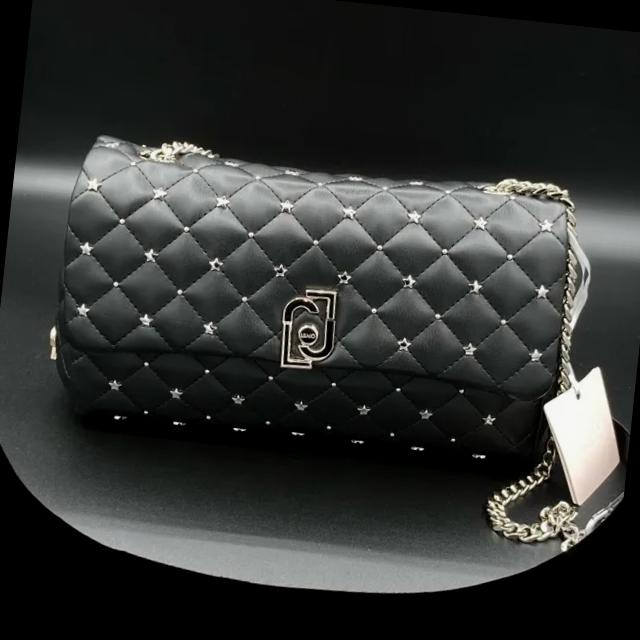LIU-JO: (277, 284, 338, 371)
